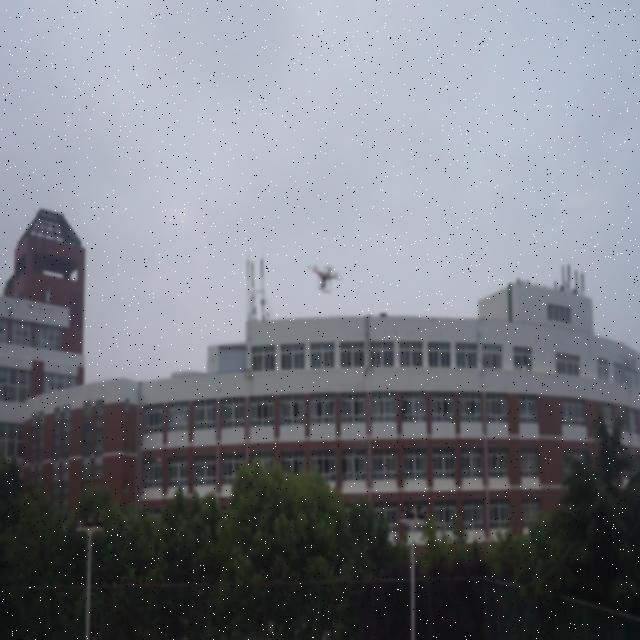UAV: (308, 265, 342, 293)
